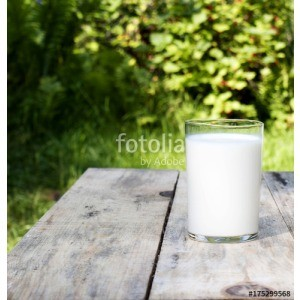milk_brain food: (178, 139, 272, 227)
